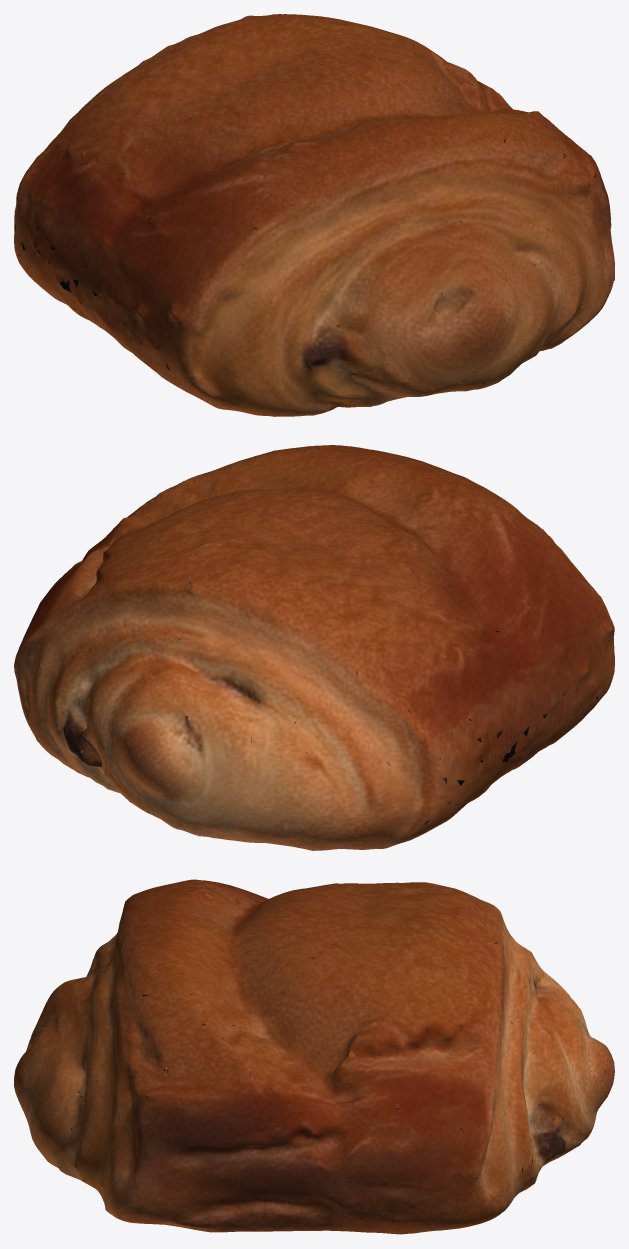
File: cardamomo-pain-au-chocolat.glb
3 renders of one model, top to bottom at view 1: azimuth 30°, elevation 25°; view 2: azimuth 150°, elevation 25°; view 3: azimuth 270°, elevation 25°, orthographic.
Parts seen in each view (by area): view 1: lo; view 2: lo; view 3: lo.
Boxes of the visible parts, left/top/right/bottom form: lo: left=14, top=14, right=614, bottom=416; lo: left=14, top=445, right=614, bottom=850; lo: left=14, top=879, right=614, bottom=1234.
Bounding box in the file's own units: 0.12 × 0.0586 × 0.1351.
1 material, 1 textured.
